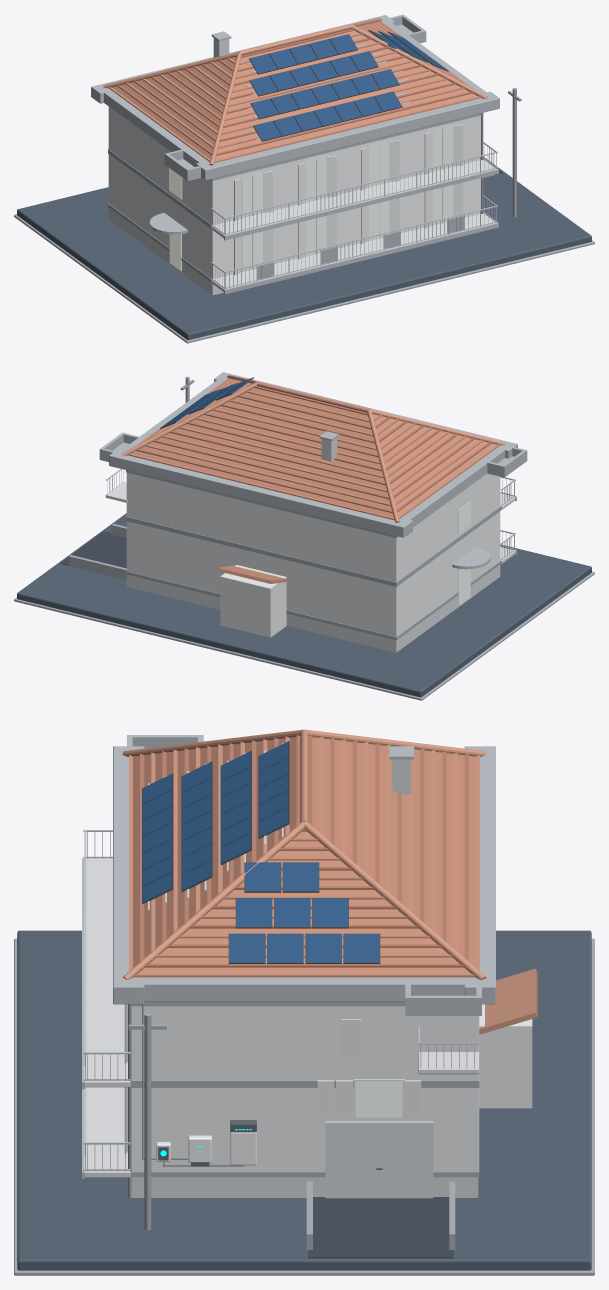
The model's file is villa_solare.glb.
The picture shows the model from 3 angles, top to bottom: view 1: azimuth 30°, elevation 25°; view 2: azimuth 150°, elevation 25°; view 3: azimuth 270°, elevation 25°; orthographic projection. The views are drawn at different scales.
Parts seen in each view (by area): view 1: Base_Platform, House_Wall_Main, Hipped_Roof, Cornice_Front, Balcony_Slab_F2, Balcony_Slab_F1, Base_Border_Rim, Cornice_Left, Balcony_Fascia_F2, Balcony_Fascia_F1, House_Wall_Plinth, Window_Glass_F2_D3 (+27 smaller); view 2: House_Wall_Main, Base_Platform, Hipped_Roof, Cornice_Back, House_Wall_Plinth, Rear_Extension_Body, Base_Border_Rim, House_Band_Mid, Cornice_Left, Garage_Driveway_Flat, House_Band_Low, TileRow_Back_0 (+21 smaller); view 3: Base_Platform, House_Wall_Main, Hipped_Roof, Garage_Frame, Garage_Driveway_Flat, Cornice_Right, Balcony_Slab_F2, Base_Border_Rim, House_Wall_Plinth, Cornice_Front, Rear_Extension_Body, Cornice_Back (+38 smaller).
Part boxes in pixels (x1,y1,x2,y2): Base_Platform: (17, 157, 591, 340); House_Wall_Main: (108, 107, 480, 278); Hipped_Roof: (112, 30, 479, 163); Cornice_Front: (196, 91, 499, 180); Balcony_Slab_F2: (211, 159, 496, 238); Balcony_Slab_F1: (211, 213, 496, 291); Base_Border_Rim: (14, 214, 594, 343); Cornice_Left: (96, 82, 221, 168); Balcony_Fascia_F2: (224, 169, 498, 240); Balcony_Fascia_F1: (224, 223, 498, 294); House_Wall_Plinth: (108, 207, 223, 295); Window_Glass_F2_D3: (432, 126, 453, 171); House_Wall_Main: (126, 472, 500, 636); Base_Platform: (17, 513, 591, 697); Hipped_Roof: (128, 388, 496, 520); Cornice_Back: (109, 449, 412, 537); House_Wall_Plinth: (126, 565, 500, 652); Rear_Extension_Body: (220, 565, 286, 637); Base_Border_Rim: (14, 571, 594, 700); House_Band_Mid: (126, 506, 500, 586); Cornice_Left: (386, 440, 512, 527); Garage_Driveway_Flat: (60, 531, 126, 568); House_Band_Low: (126, 561, 500, 640); TileRow_Back_0: (127, 453, 394, 520); Base_Platform: (17, 930, 591, 1270); House_Wall_Main: (131, 1006, 478, 1171); Hipped_Roof: (133, 737, 475, 977); Garage_Frame: (325, 1121, 433, 1198); Garage_Driveway_Flat: (308, 1197, 453, 1258); Cornice_Right: (116, 971, 480, 1001); Balcony_Slab_F2: (84, 858, 130, 1087); Base_Border_Rim: (14, 938, 594, 1275); House_Wall_Plinth: (131, 1177, 478, 1197); Cornice_Front: (113, 746, 144, 1004); Rear_Extension_Body: (479, 1004, 532, 1108); Cornice_Back: (464, 746, 495, 1004).
Bounding box in the file's own units: 22.7 × 10.37 × 16.7.
